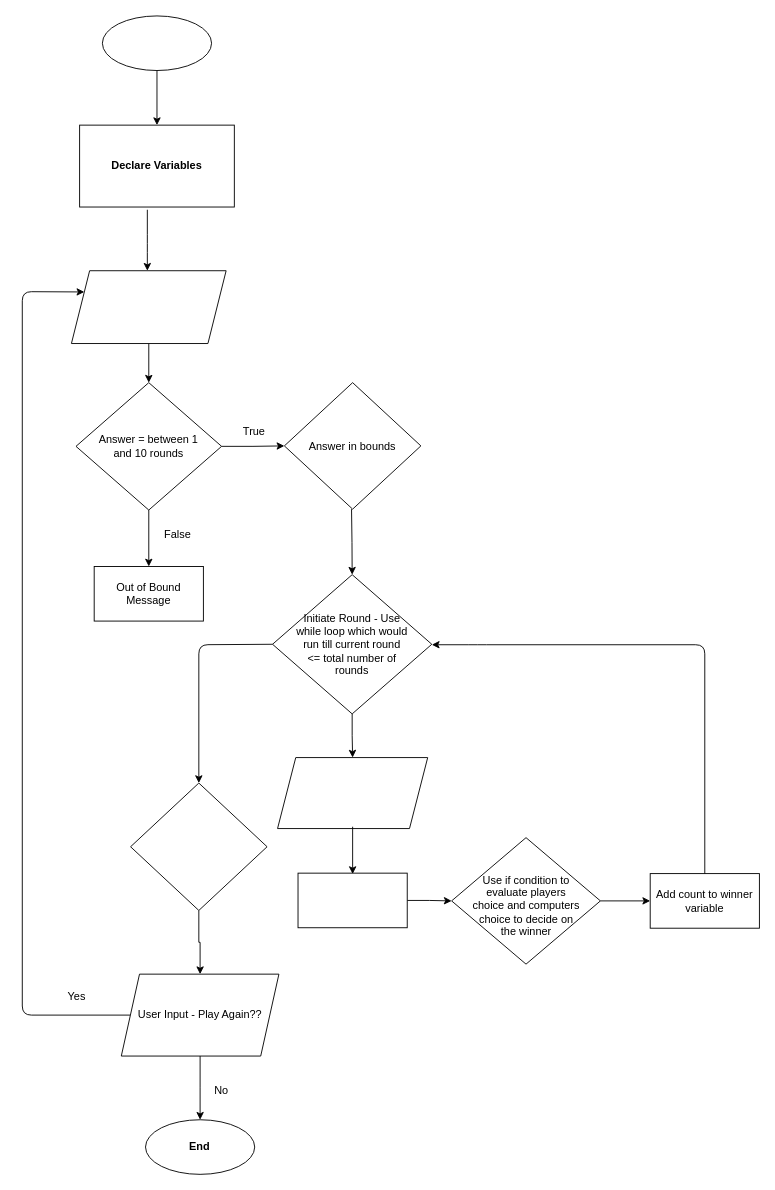
Some shapes in this 775 by 1190 pixel diagram are drawn without their labels. Here are the shapes that lost their labels. From the top down, the box of each, then its label:
(101, 15, 212, 71): Start
(71, 270, 226, 344): Input - No. of rounds user wants to play
(277, 757, 428, 829): Input user choice
(130, 782, 267, 910): If condition to display result of overall winner
(297, 872, 407, 928): Generate random choice by computer
